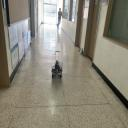cart: (52, 64, 62, 78)
